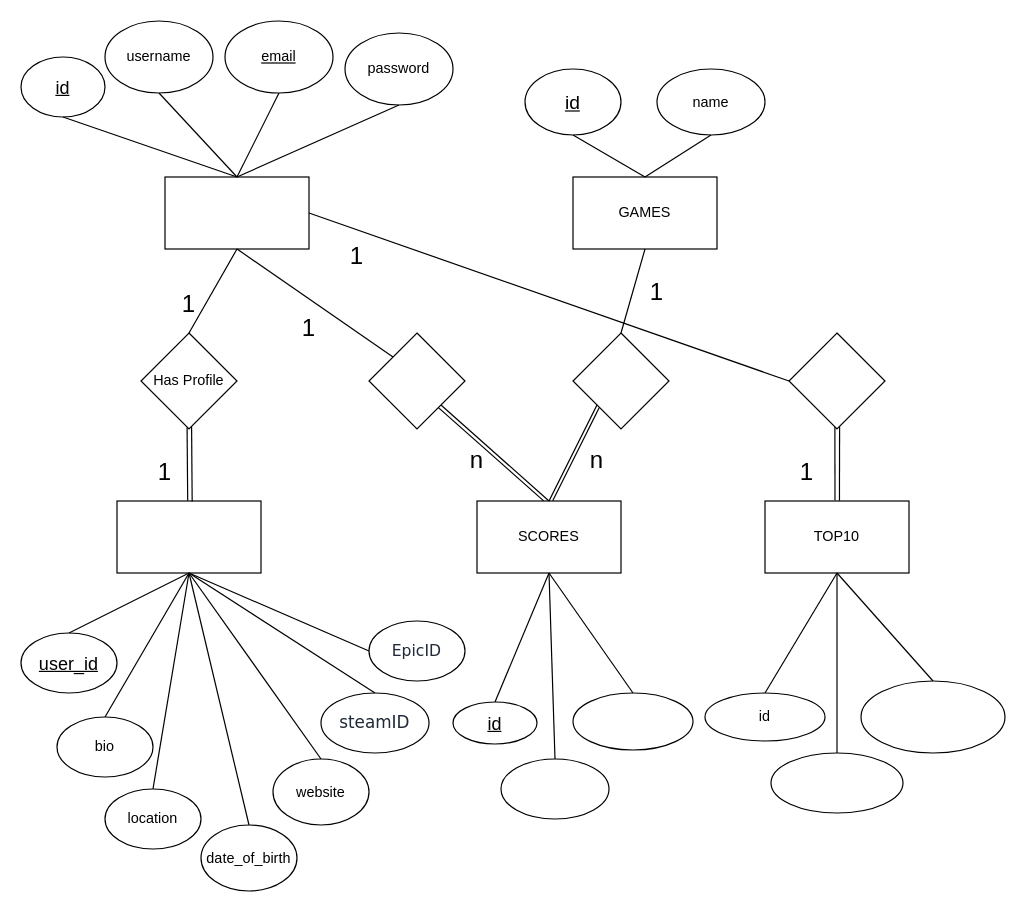
Image size: 1026x912. Some labels were removed from this diagram. Here are the shapes that lost their labels. From the top down, the centre of each, then its label:
At (236,212): "USERS".
At (416,380): "Achieves".
At (620,380): "Has".
At (836,380): "Ranks In".
At (188,536): "USERPROFILES".
At (632,721): "date_achieved".
At (932,716): "date_updated".
At (554,788): "score".
At (836,782): "total_score".
